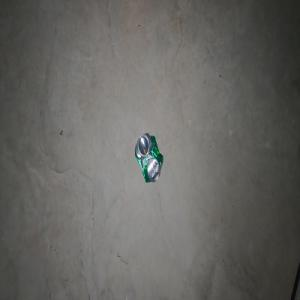SodaCan: (134, 132, 163, 183)
